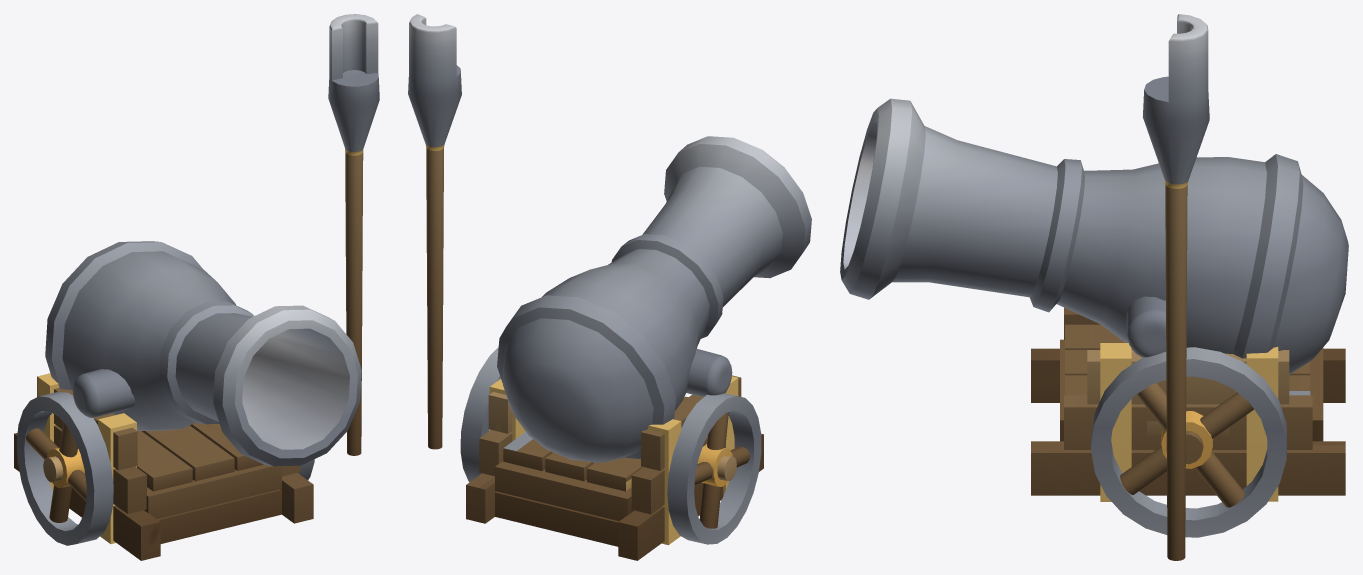
The model's file is cannon-002.fbx.
The picture shows the model from 3 angles, left to right: view 1: azimuth 30°, elevation 25°; view 2: azimuth 150°, elevation 25°; view 3: azimuth 270°, elevation 25°; orthographic projection. The views are drawn at different scales.
Parts seen in each view (by area): view 1: cannon1, lader; view 2: cannon1, lader; view 3: cannon1, lader.
Boxes of the visible parts, x1,y1,x2,y2 form: cannon1: [14, 241, 361, 560]; lader: [328, 14, 379, 455]; cannon1: [460, 136, 811, 560]; lader: [408, 14, 461, 449]; cannon1: [840, 98, 1348, 537]; lader: [1143, 14, 1209, 560].
Size of the model in its own units: 1.08 by 1.43 by 1.19.
Materials: 1 (1 with a texture image).
